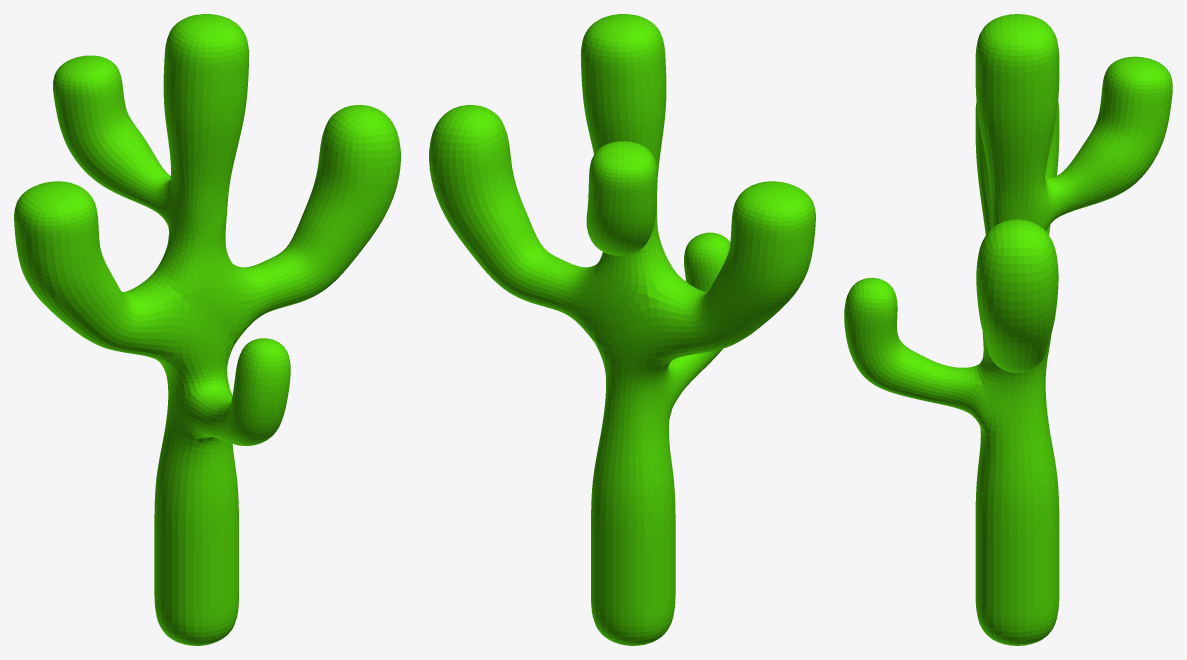
The model's file is kaktus.glb.
3 views of the same model, side by side, from view 1: azimuth 30°, elevation 25°; view 2: azimuth 150°, elevation 25°; view 3: azimuth 270°, elevation 25° (orthographic).
Parts seen in each view (by area): view 1: Vert; view 2: Vert; view 3: Vert.
Part boxes in pixels (x1,y1,x2,y2): Vert: (14, 14, 400, 645); Vert: (429, 14, 815, 645); Vert: (844, 14, 1172, 645).
Size of the model in its own units: 2.39 by 3.77 by 1.8.
